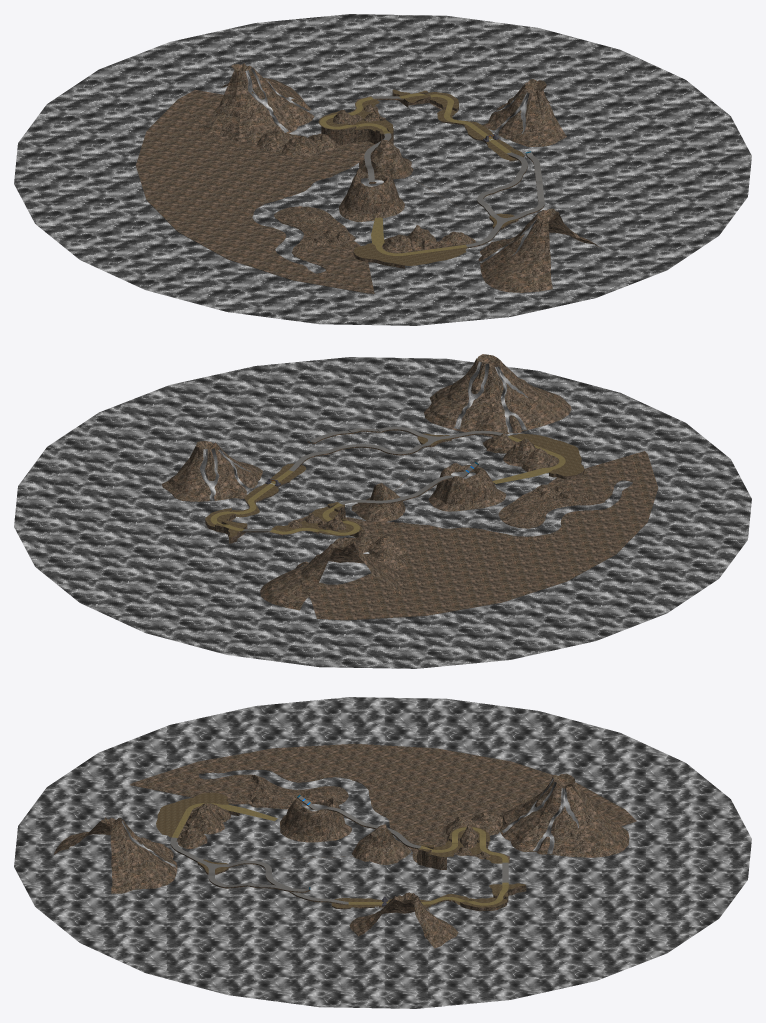
3 renders of one model, top to bottom at view 1: azimuth 30°, elevation 25°; view 2: azimuth 150°, elevation 25°; view 3: azimuth 270°, elevation 25°, orthographic.
Visible parts, largest first — view 1: Volcano_valley_V1_0_by_Yoshi_Production___Chrisdark64_OFICI. (×6); view 2: Volcano_valley_V1_0_by_Yoshi_Production___Chrisdark64_OFICI. (×6); view 3: Volcano_valley_V1_0_by_Yoshi_Production___Chrisdark64_OFICI. (×6).
Part boxes in pixels (<box>): Volcano_valley_V1_0_by_Yoshi_Production___Chrisdark64_OFICI. (×6): <box>14,14,751,325</box>; Volcano_valley_V1_0_by_Yoshi_Production___Chrisdark64_OFICI. (×6): <box>14,354,751,668</box>; Volcano_valley_V1_0_by_Yoshi_Production___Chrisdark64_OFICI. (×6): <box>14,697,751,1008</box>.
Bounding box in the file's own units: 353210 × 32303 × 353210.
Materials: 34 (11 with a texture image).
